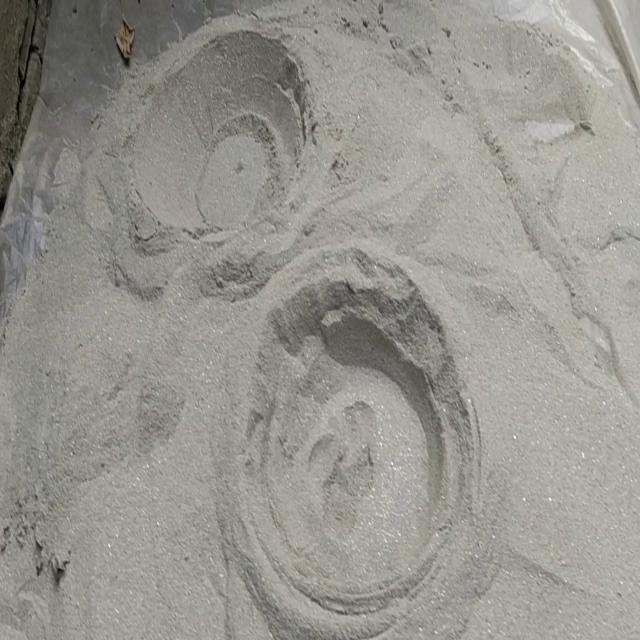C20: (243, 285, 474, 632), (132, 31, 305, 233)
